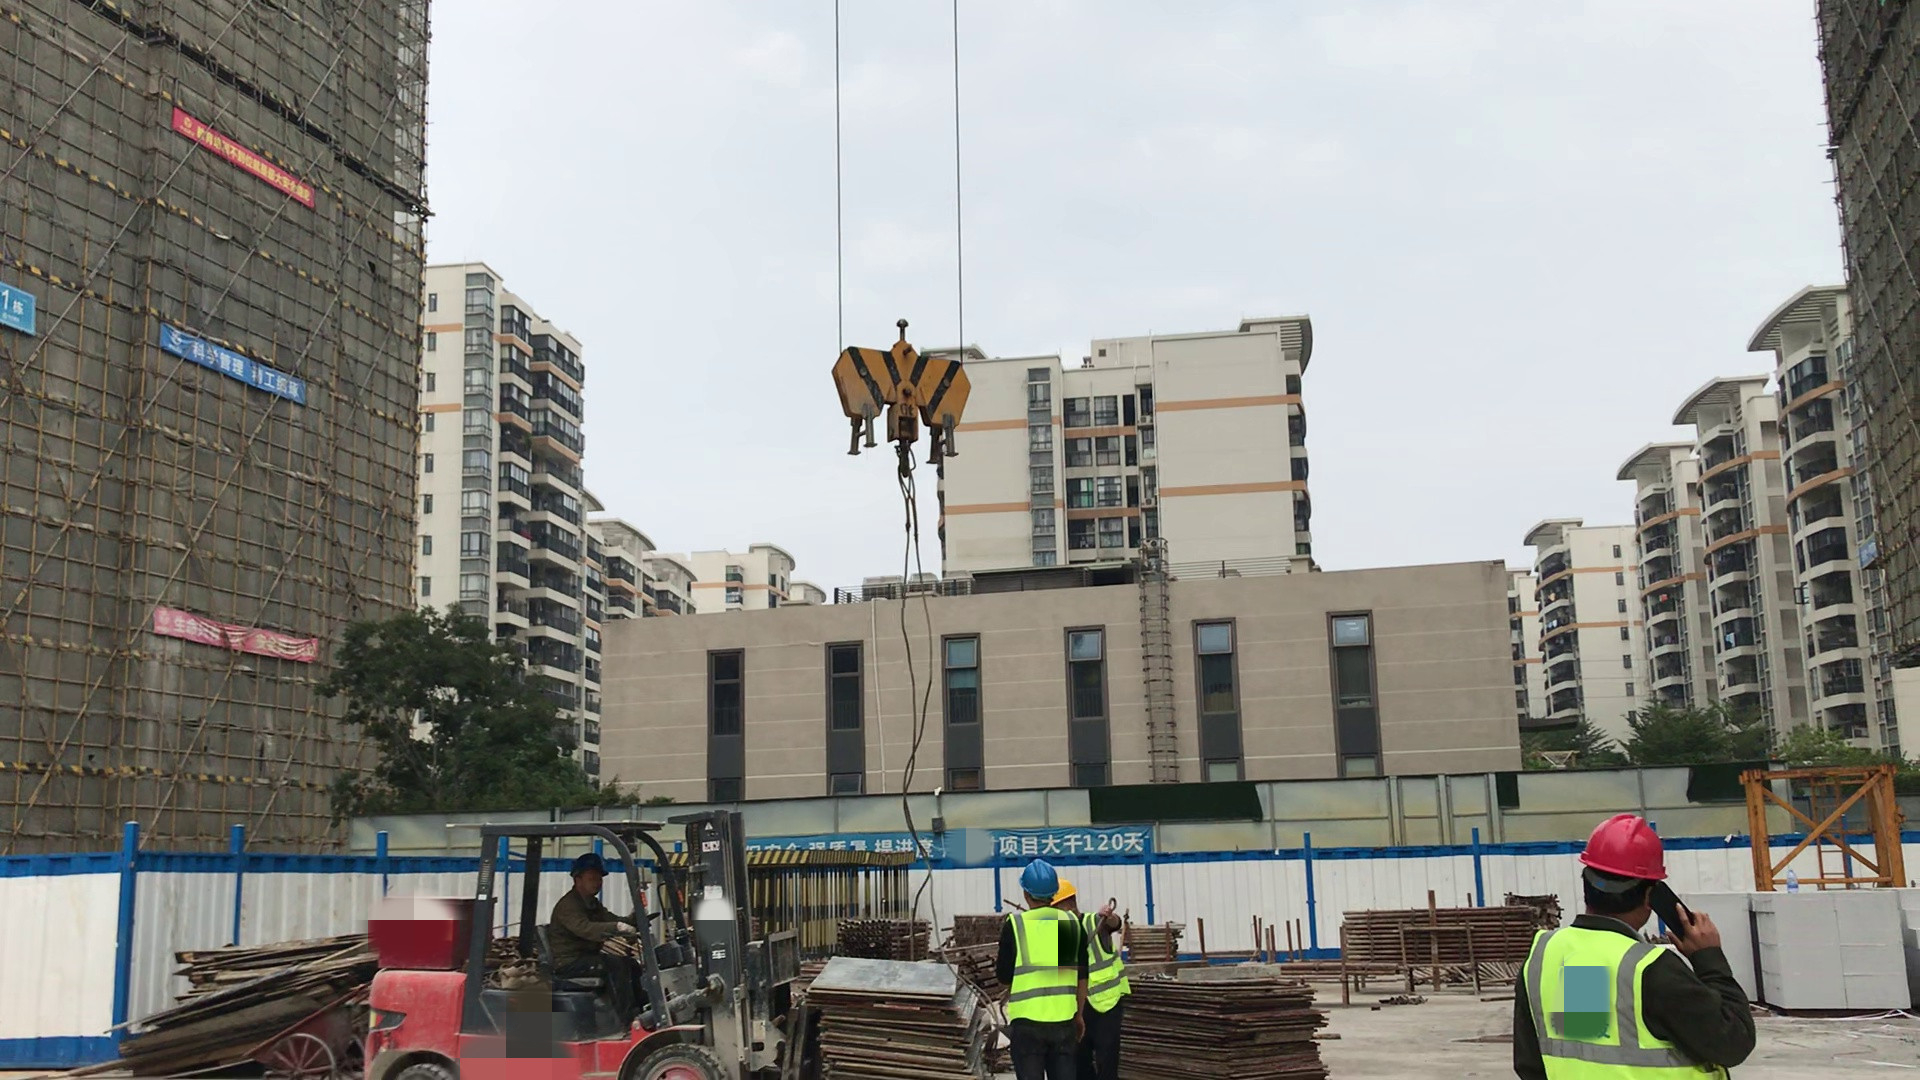board: (813, 950, 983, 1080), (1119, 979, 1333, 1080)
brick: (1756, 895, 1909, 1027)
helmet: (1579, 814, 1667, 879), (1015, 859, 1058, 897), (568, 854, 607, 874), (1053, 881, 1074, 907)
hook: (832, 319, 974, 481)
person: (1512, 814, 1757, 1080), (994, 858, 1091, 1080), (551, 859, 654, 1038), (1041, 878, 1132, 1080)
slogan: (170, 108, 317, 214), (159, 319, 301, 403), (836, 830, 1158, 858), (158, 606, 316, 661)
vest: (1523, 923, 1722, 1080), (1009, 906, 1082, 1023), (1082, 911, 1129, 1011)
